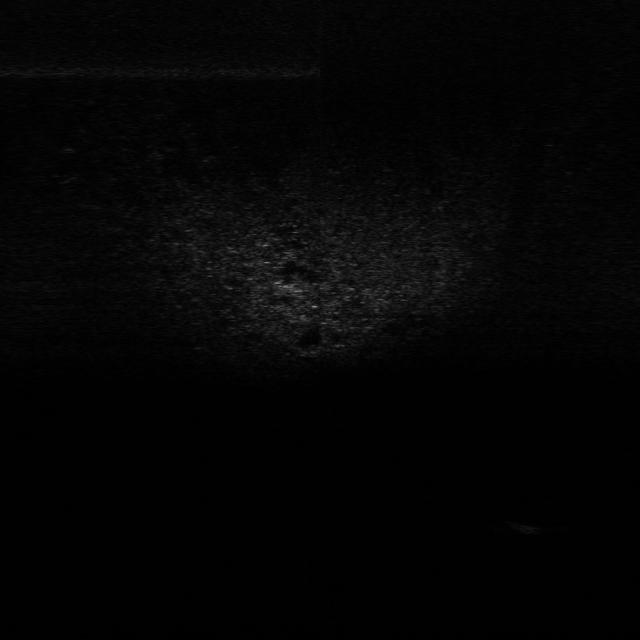cylinder: (503, 515, 553, 536)
